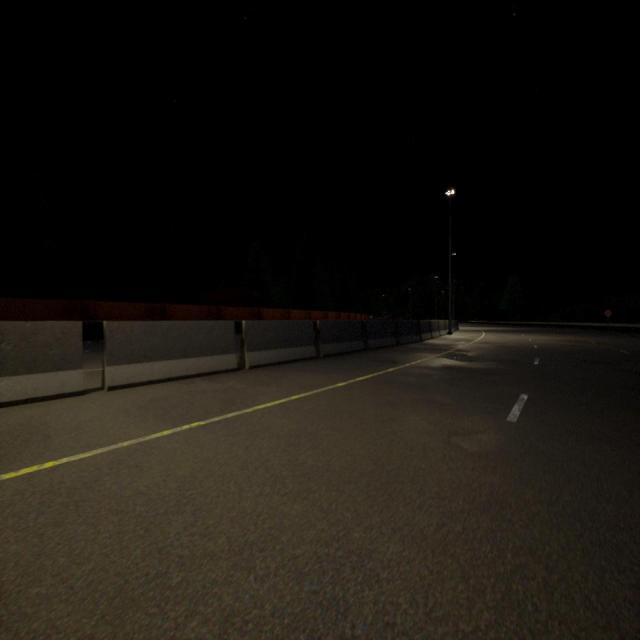Traffic_Signs: (605, 310, 611, 316)
